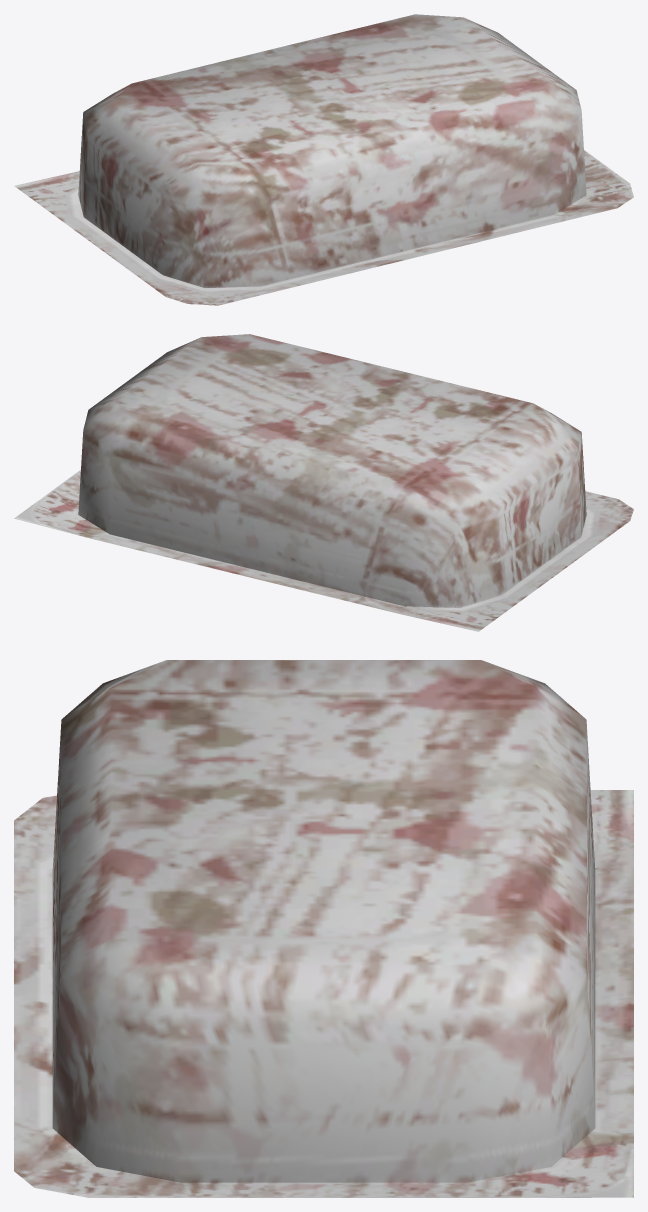
Rendered from SM_TrashScrapCase_02_B.fbx.
3 renders of one model, top to bottom at view 1: azimuth 30°, elevation 25°; view 2: azimuth 150°, elevation 25°; view 3: azimuth 270°, elevation 25°, orthographic. The views are drawn at different scales.
Parts seen in each view (by area): view 1: SM_TrashScrapCase_02_B; view 2: SM_TrashScrapCase_02_B; view 3: SM_TrashScrapCase_02_B.
Part boxes in pixels (x1,y1,x2,y2): SM_TrashScrapCase_02_B: (14,14,633,305); SM_TrashScrapCase_02_B: (14,334,633,631); SM_TrashScrapCase_02_B: (14,660,633,1197).
Size of the model in its own units: 38.7 by 24.86 by 8.22.
1 material, 1 textured.
